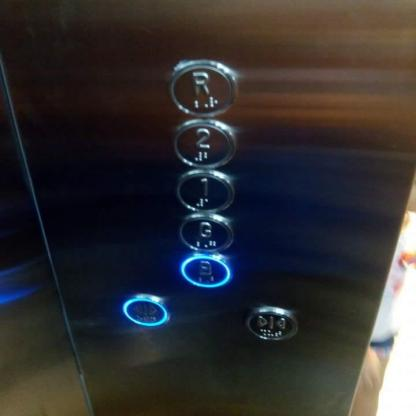1: (171, 168, 238, 213)
2: (170, 116, 237, 168)
B: (177, 254, 233, 288)
G: (176, 211, 235, 254)
R: (167, 59, 236, 117)
close: (245, 306, 299, 341)
open: (119, 291, 172, 328)
